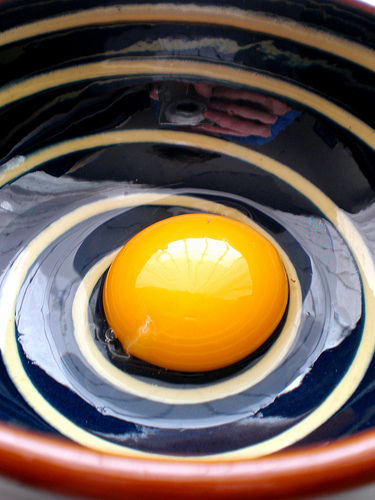egg: (67, 157, 328, 401)
